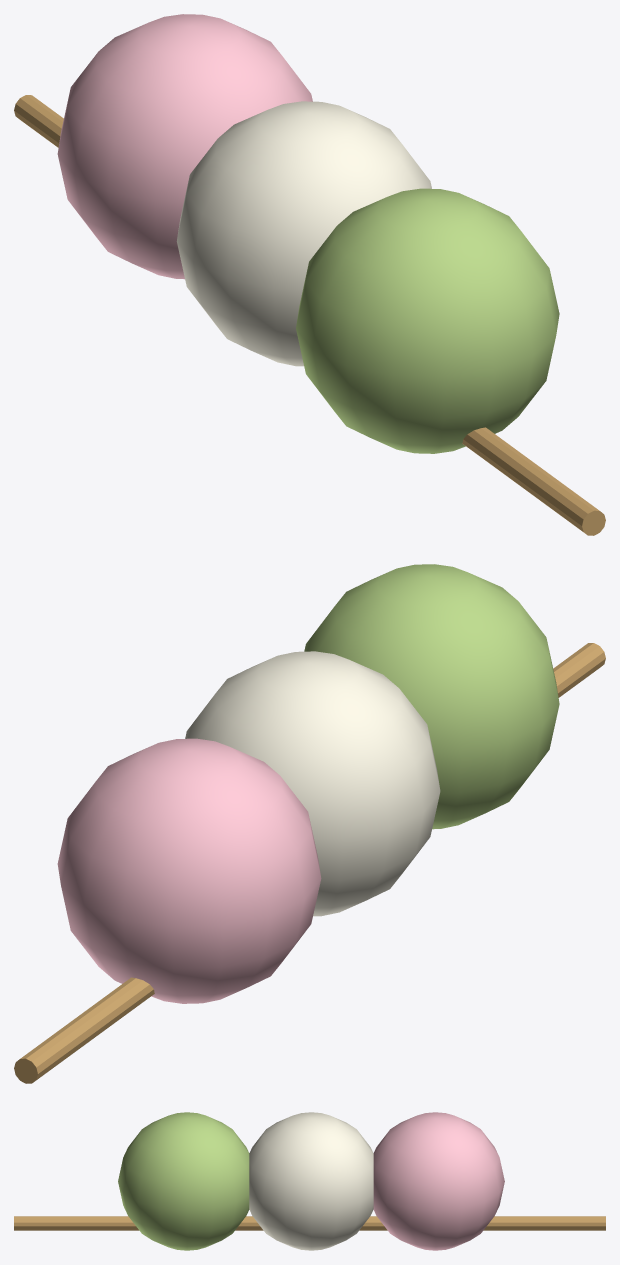
The model's file is Food2.fbx.
The picture shows the model from 3 angles, top to bottom: view 1: azimuth 30°, elevation 25°; view 2: azimuth 150°, elevation 25°; view 3: azimuth 270°, elevation 25°; orthographic projection. The views are drawn at different scales.
Visible parts, largest first — view 1: Food2; view 2: Food2; view 3: Food2.
Boxes of the visible parts, bbox=[...] form: Food2: bbox=[14, 14, 605, 535]; Food2: bbox=[14, 564, 605, 1083]; Food2: bbox=[14, 1112, 605, 1250].
Size of the model in its own units: 4.8 by 4.8 by 20.5.
